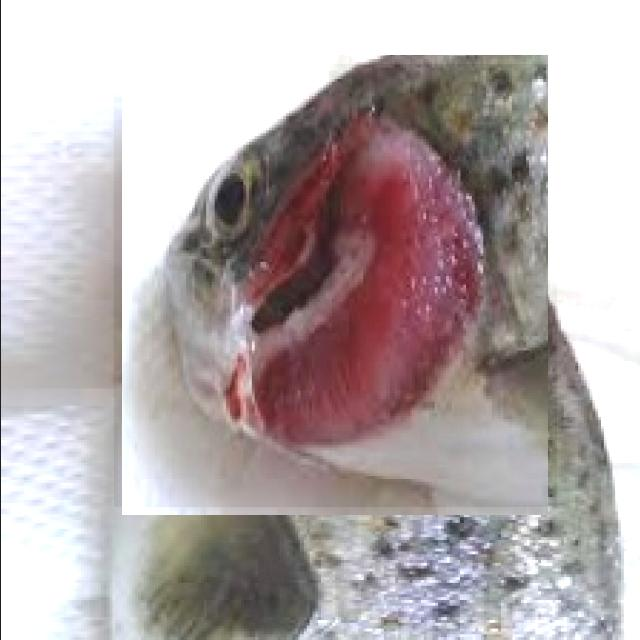Gill Disease: (113, 64, 556, 507)
